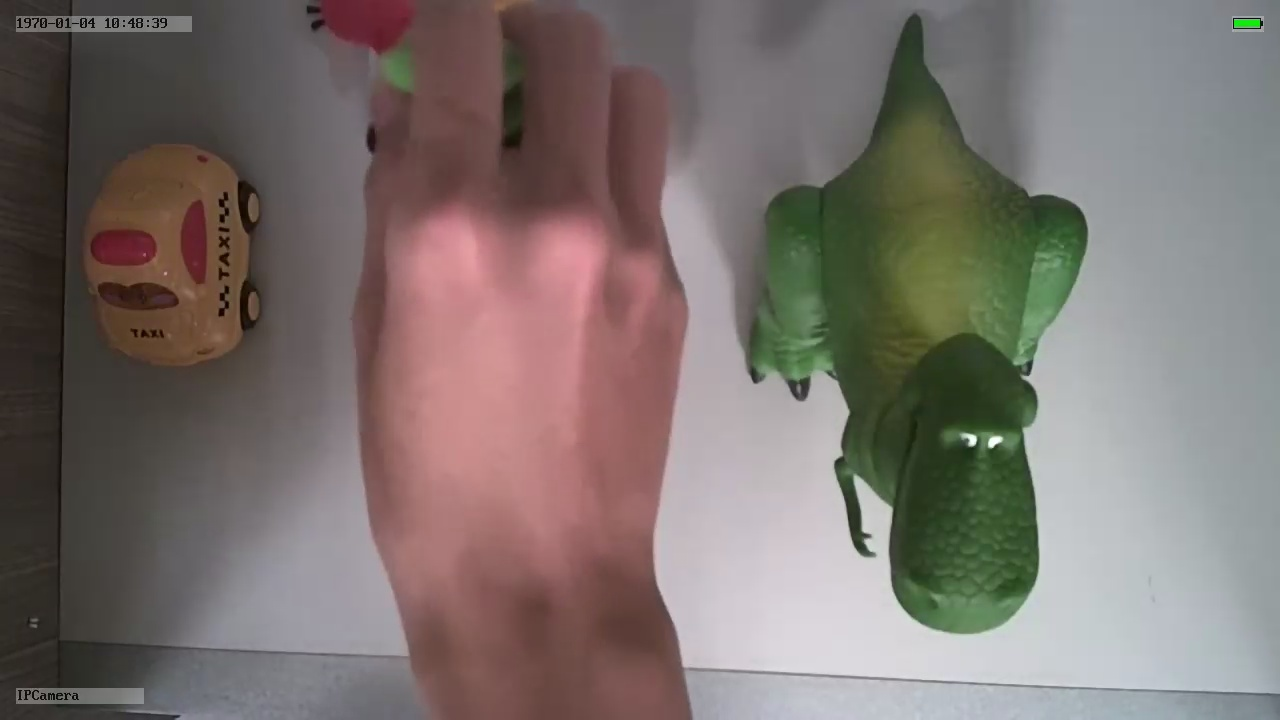car: (78, 137, 268, 371)
rex: (748, 114, 1092, 635)
